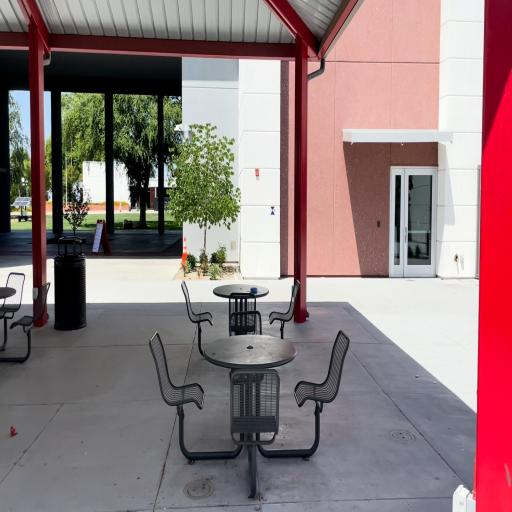target9: (270, 206, 275, 215)
